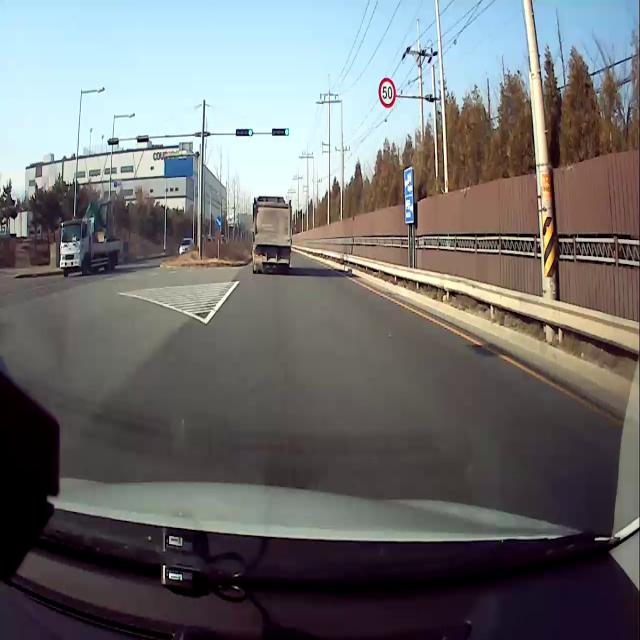Green Light: (247, 129, 253, 137), (284, 128, 289, 136)
